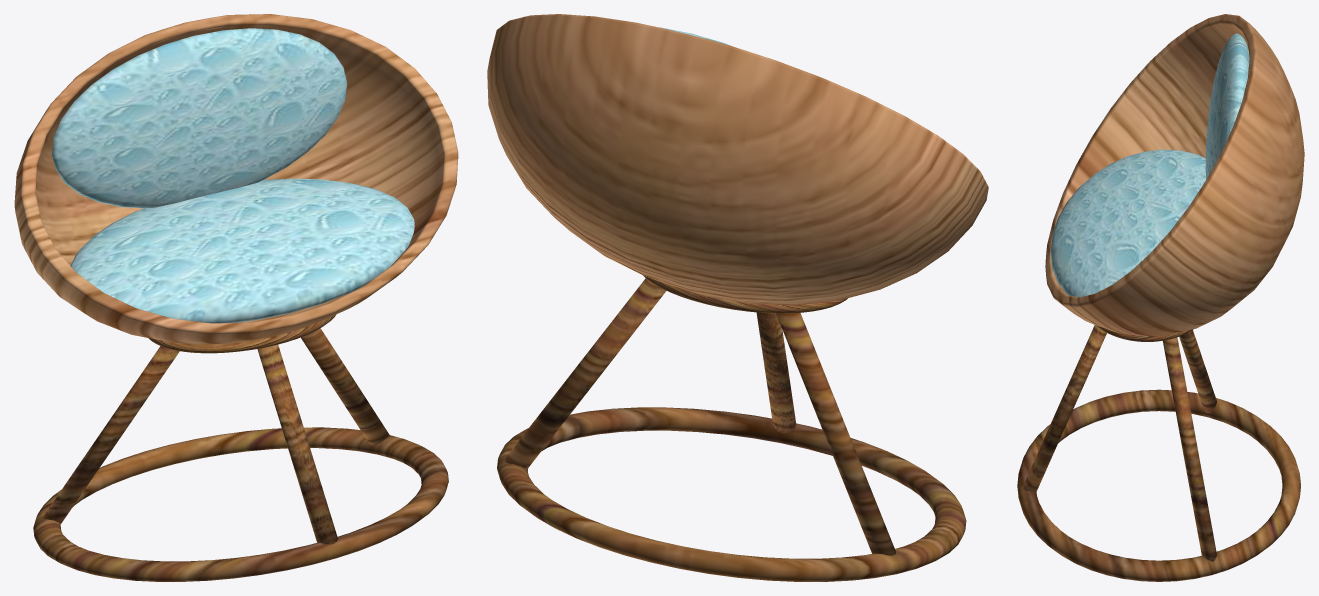
Rendered from coconchair1.glb.
3 views of the same model, side by side, from view 1: azimuth 30°, elevation 25°; view 2: azimuth 150°, elevation 25°; view 3: azimuth 270°, elevation 25° (orthographic). The views are drawn at different scales.
Visible parts, largest first — view 1: Mesh_0.001, Mesh_2.001, Mesh_1.001, Mesh_5.001, Mesh_7.001, Mesh_4.001, Mesh_3.001, Mesh_6.001; view 2: Mesh_0.001, Mesh_5.001, Mesh_4.001, Mesh_3.001, Mesh_7.001, Mesh_6.001; view 3: Mesh_0.001, Mesh_1.001, Mesh_5.001, Mesh_3.001, Mesh_2.001, Mesh_7.001, Mesh_4.001, Mesh_6.001.
Part boxes in pixels (x1,y1,x2,y2): Mesh_0.001: (14,14,458,343); Mesh_2.001: (52,28,347,208); Mesh_1.001: (70,178,414,323); Mesh_5.001: (33,427,448,581); Mesh_7.001: (257,336,337,544); Mesh_4.001: (42,346,179,524); Mesh_3.001: (301,328,389,445); Mesh_6.001: (148,314,335,353); Mesh_0.001: (487,14,988,305); Mesh_5.001: (497,407,966,581); Mesh_4.001: (776,313,895,555); Mesh_3.001: (502,278,666,469); Mesh_7.001: (756,312,796,433); Mesh_6.001: (643,275,847,313); Mesh_0.001: (1045,14,1304,336); Mesh_1.001: (1050,149,1205,297); Mesh_5.001: (1017,389,1300,581); Mesh_3.001: (1163,337,1216,561); Mesh_2.001: (1205,33,1249,179); Mesh_7.001: (1022,325,1106,492); Mesh_4.001: (1179,330,1216,412); Mesh_6.001: (1096,325,1193,341).
Size of the model in its own units: 1.37 by 1.41 by 0.8335.
Materials: 3 (3 with a texture image).
